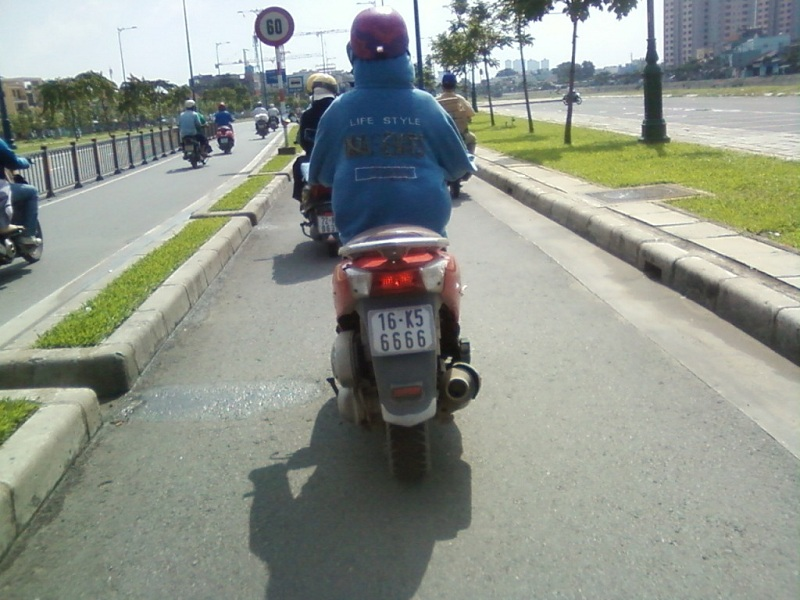bien_so: (363, 301, 440, 363), (313, 211, 349, 237), (181, 145, 195, 152), (219, 137, 230, 145)
